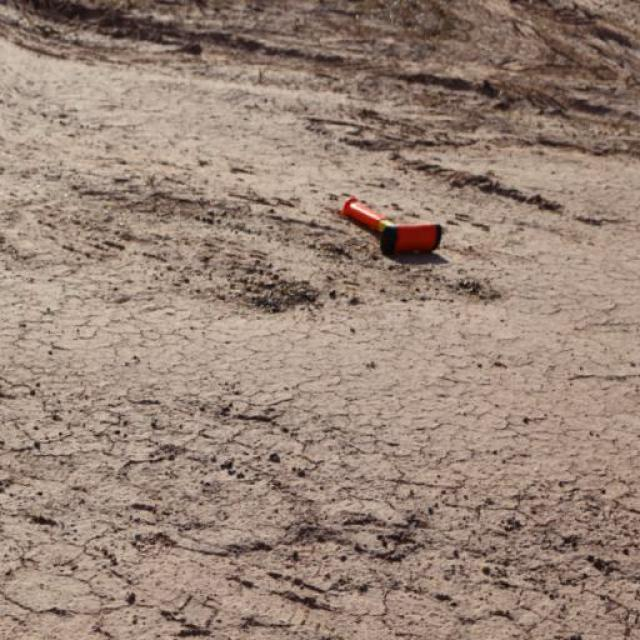mallet: (340, 192, 445, 256)
